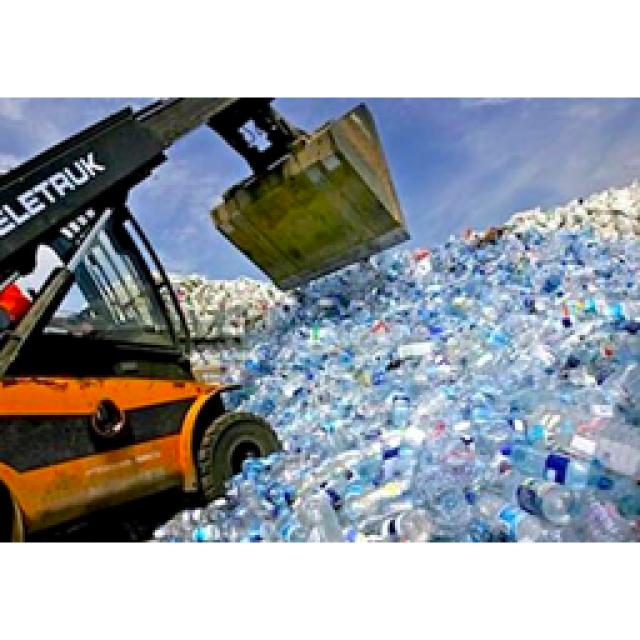plastic: (279, 285, 640, 542), (474, 224, 640, 278), (197, 283, 259, 339), (212, 503, 301, 540)
